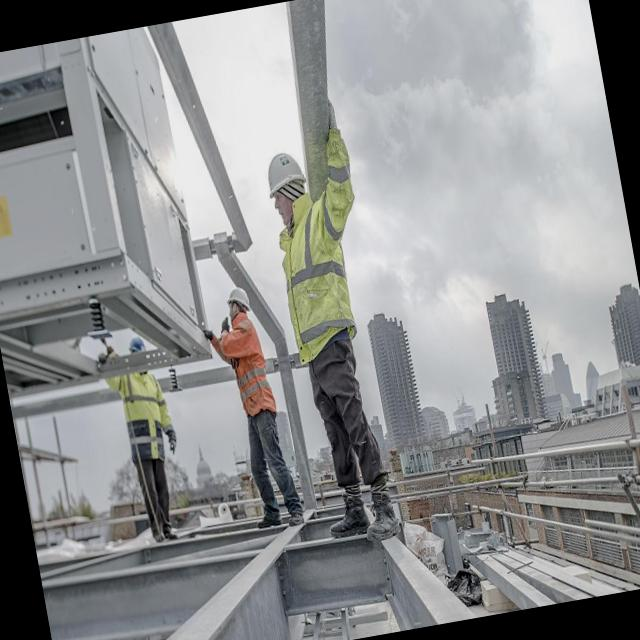helmet: (263, 147, 313, 210), (220, 279, 254, 325)
vest: (268, 191, 361, 370)
